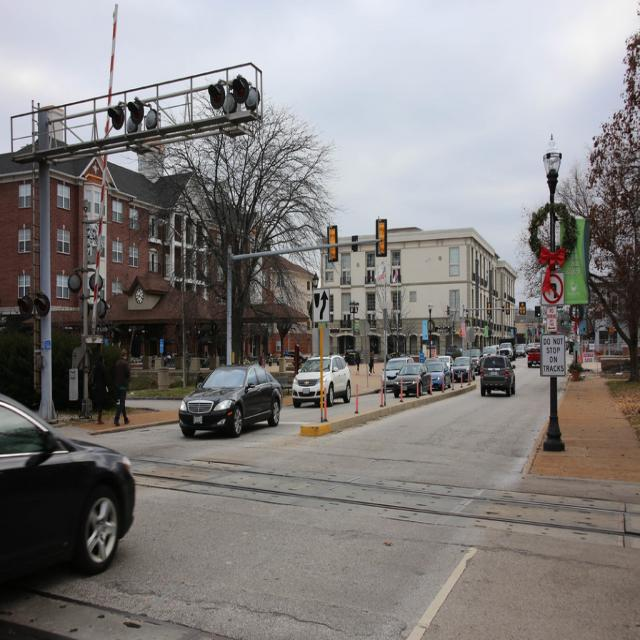other: (0, 388, 134, 604), (381, 338, 547, 398), (180, 364, 283, 436), (292, 356, 350, 404)
